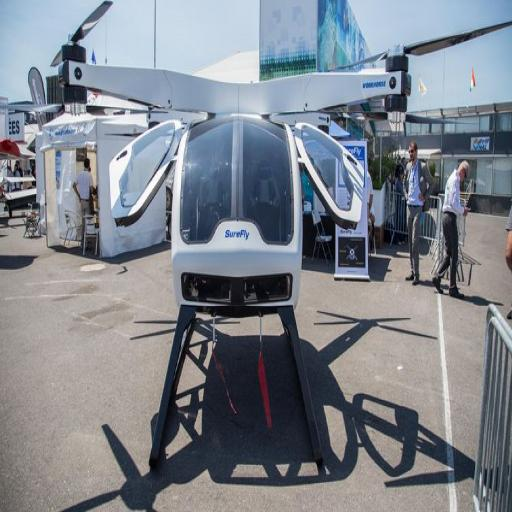helicopter: (24, 2, 501, 466)
